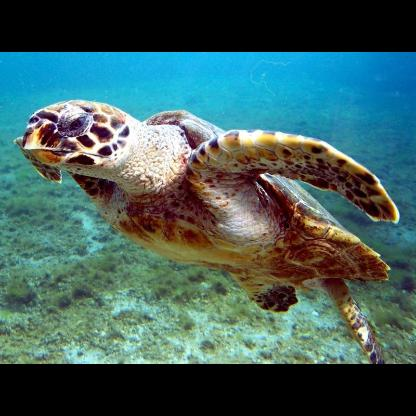turtle: (17, 98, 415, 362)
